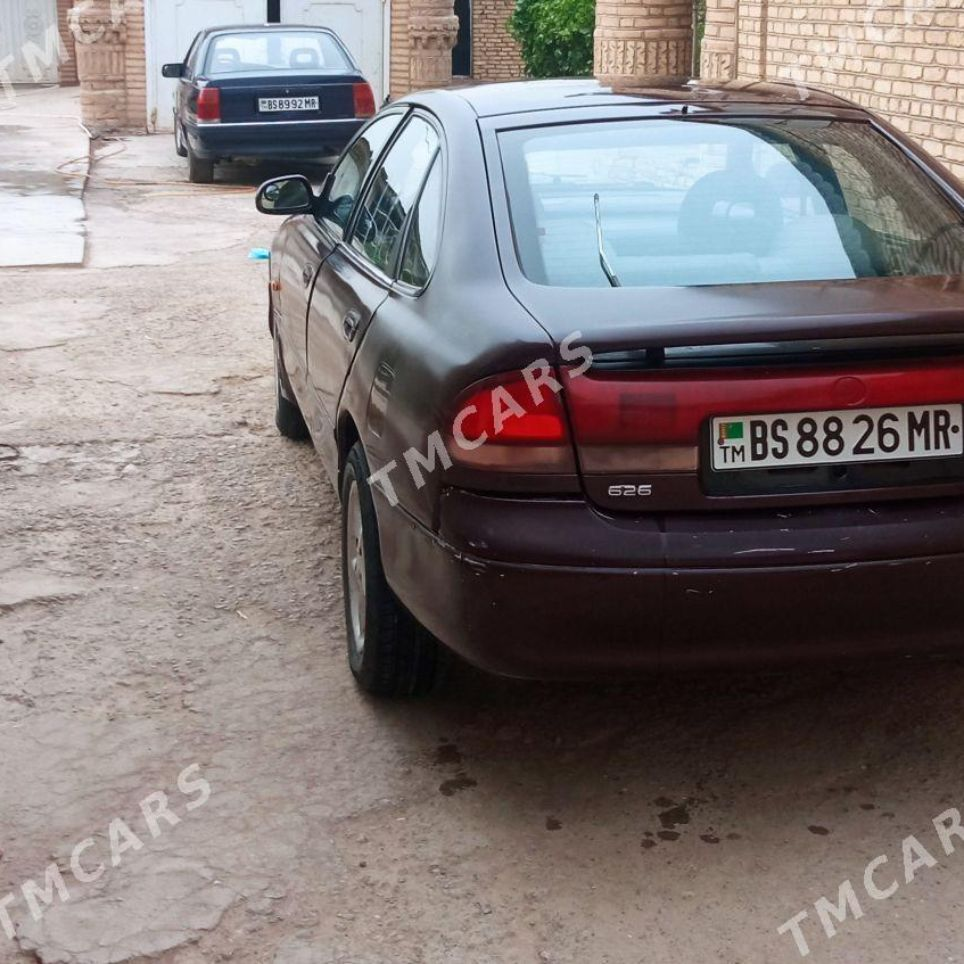license plate: (701, 399, 959, 479)
truck: (238, 99, 959, 699)
